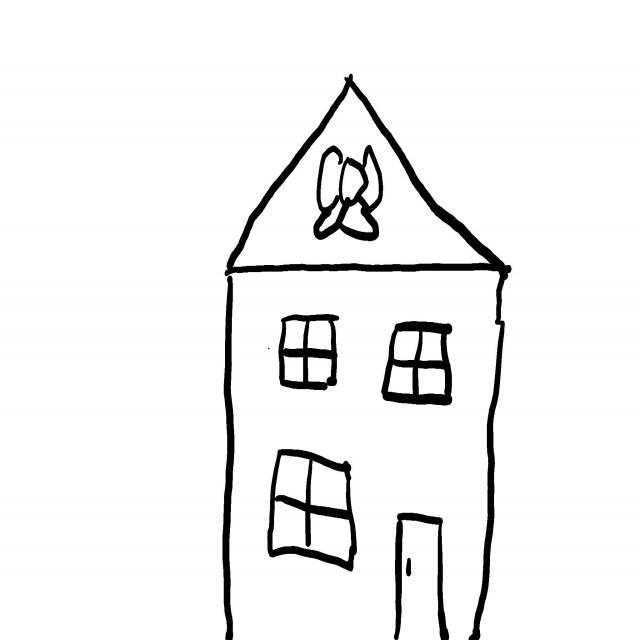door: (395, 506, 452, 640)
house: (222, 75, 511, 640)
roof: (221, 75, 514, 278)
wall: (218, 266, 511, 640)
window: (270, 451, 357, 572), (382, 322, 453, 406), (279, 315, 339, 390)
